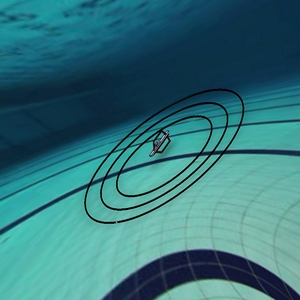circle: (67, 66, 257, 242)
submarine: (138, 123, 186, 167)
